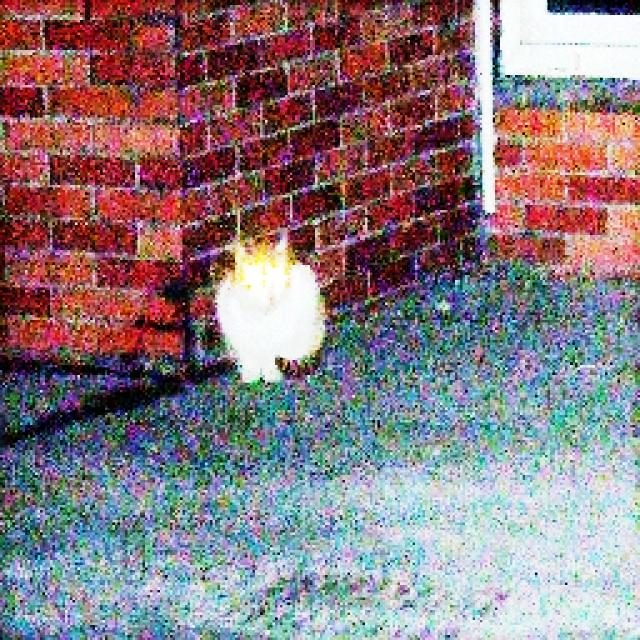cat: (173, 194, 355, 403)
